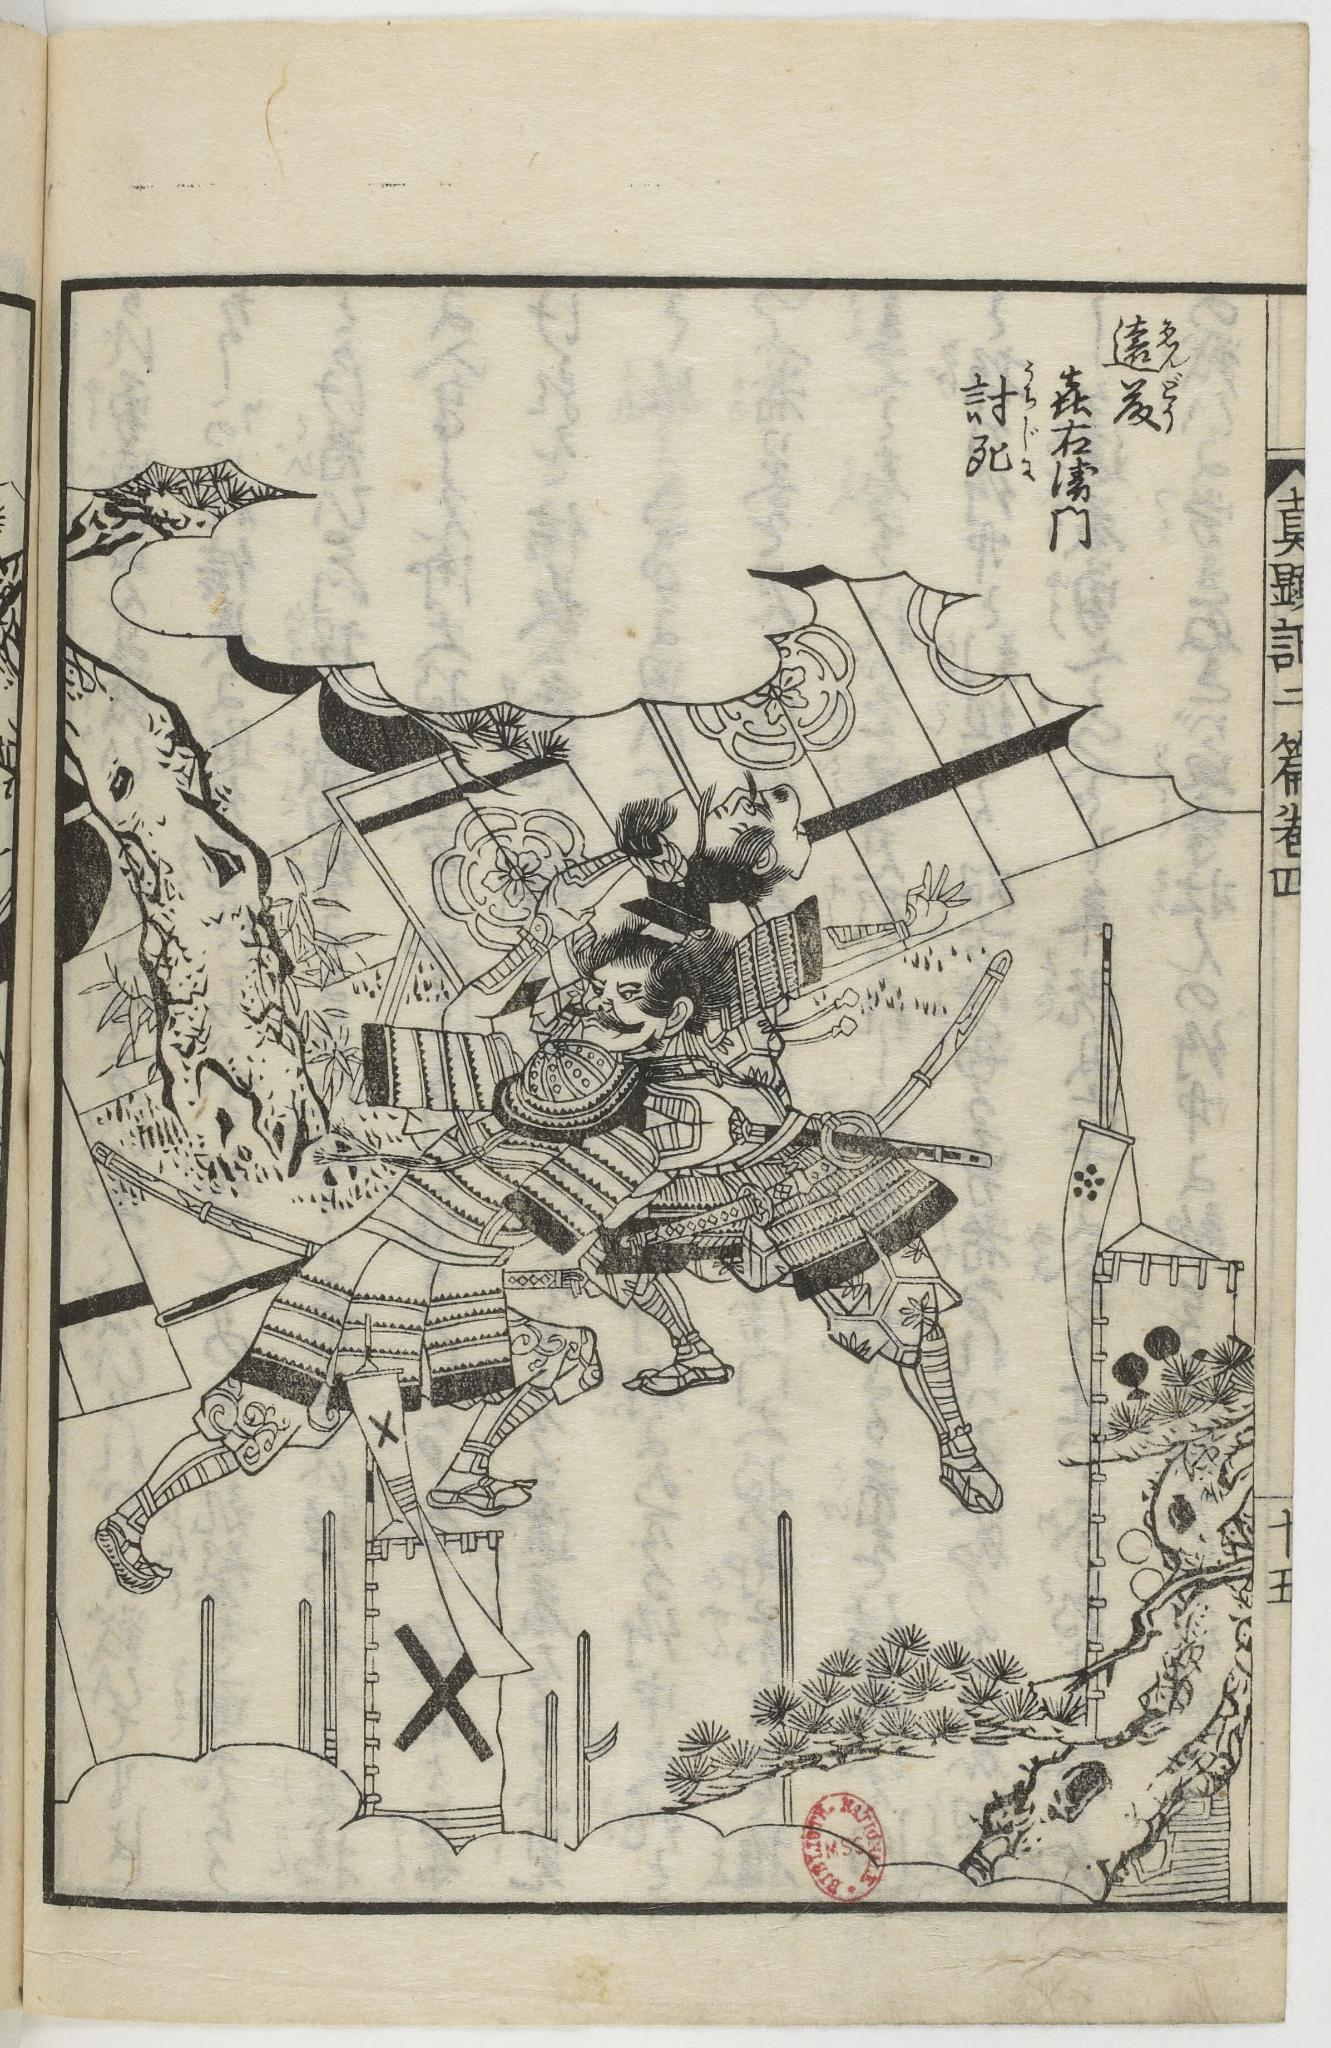MainZone-Character: (956, 416, 1042, 485), (958, 357, 1040, 427), (1106, 315, 1194, 375), (1113, 375, 1189, 439)
MainZone-Ruby: (1156, 370, 1189, 436), (1156, 319, 1192, 372), (1019, 416, 1043, 485), (1018, 358, 1036, 408)
